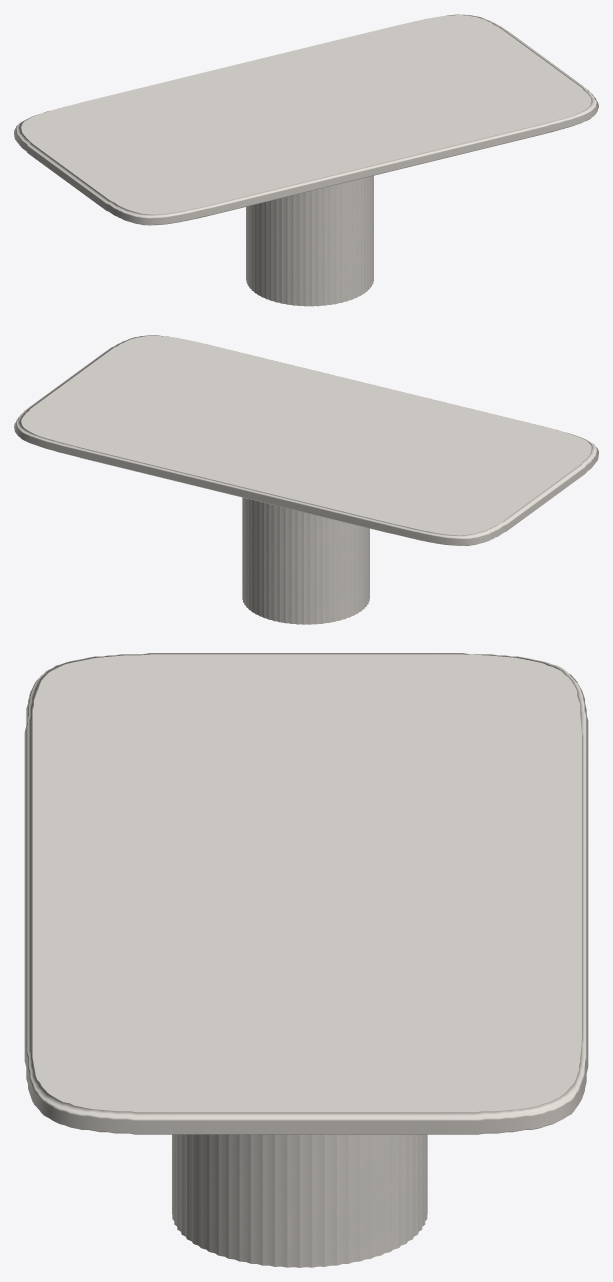
The model's file is pearlwhite_softrecta_round_ripple.glb.
The picture shows the model from 3 angles, top to bottom: view 1: azimuth 30°, elevation 25°; view 2: azimuth 150°, elevation 25°; view 3: azimuth 270°, elevation 25°; orthographic projection. The views are drawn at different scales.
Visible parts, largest first — view 1: round_softrecta, ripple; view 2: round_softrecta, ripple; view 3: round_softrecta, ripple.
Part boxes in pixels (<box>): round_softrecta: <box>14,14,598,225</box>; ripple: <box>246,175,373,306</box>; round_softrecta: <box>14,335,598,546</box>; ripple: <box>242,497,369,624</box>; round_softrecta: <box>24,653,588,1134</box>; ripple: <box>172,1134,427,1267</box>.
Size of the model in its own units: 7.68 by 2.5 by 3.9.
1 material, 1 textured.
